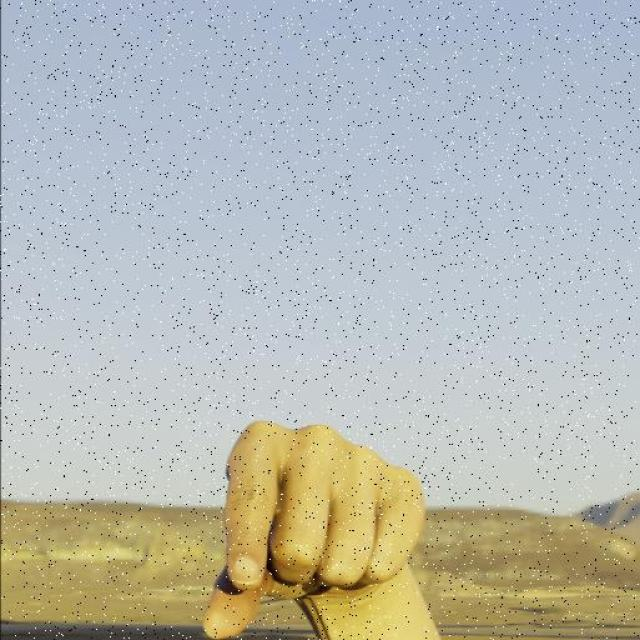Q: (197, 417, 428, 640)
